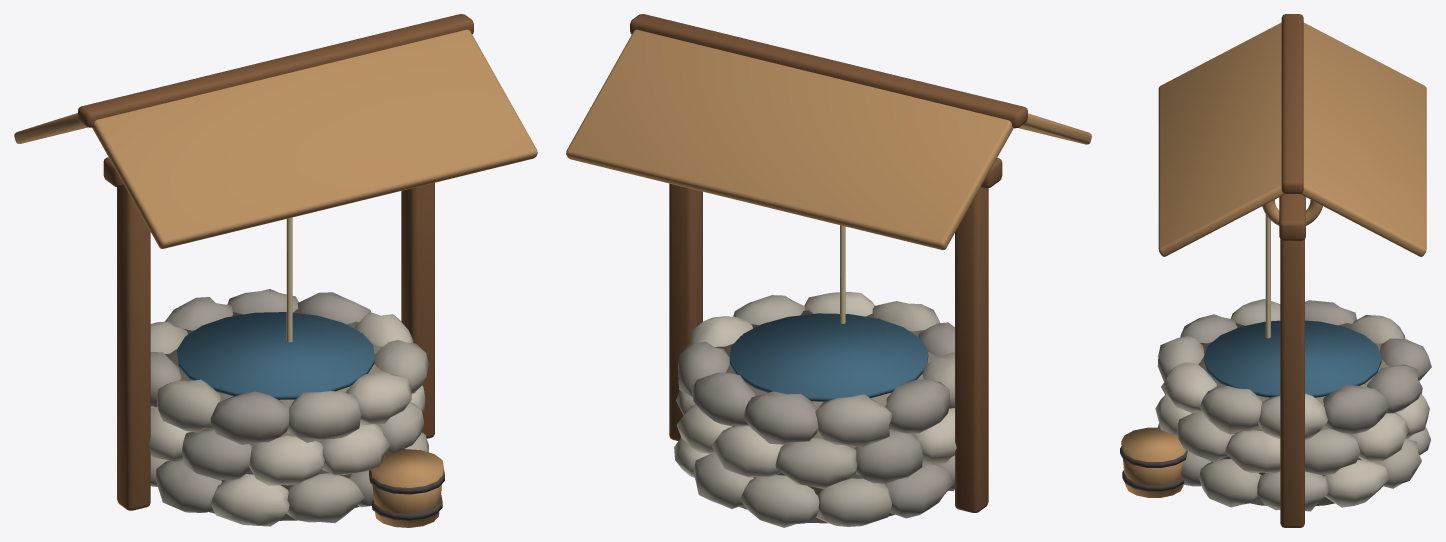
The model's file is well.glb.
3 views of the same model, side by side, from view 1: azimuth 30°, elevation 25°; view 2: azimuth 150°, elevation 25°; view 3: azimuth 270°, elevation 25° (orthographic). The views are drawn at different scales.
Visible parts, largest first — view 1: well; view 2: well; view 3: well.
Part boxes in pixels (<box>): well: <box>14,14,537,527</box>; well: <box>566,14,1091,527</box>; well: <box>1120,14,1431,527</box>.
Size of the model in its own units: 1.8 by 1.82 by 1.4.
